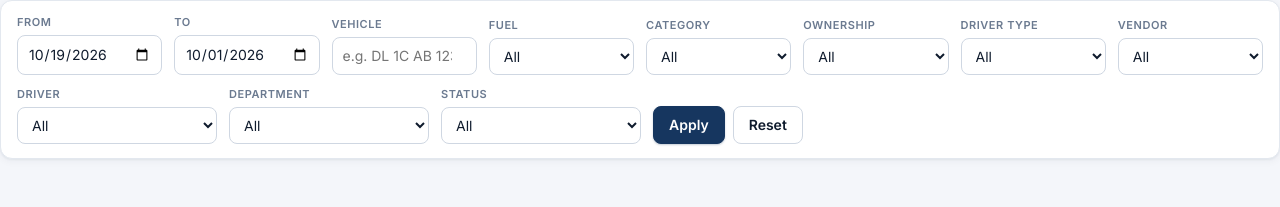
FilterBar › refuses an inverted date range with a visible message
Click the button "Apply": x=689, y=125 [653,106,725,144]
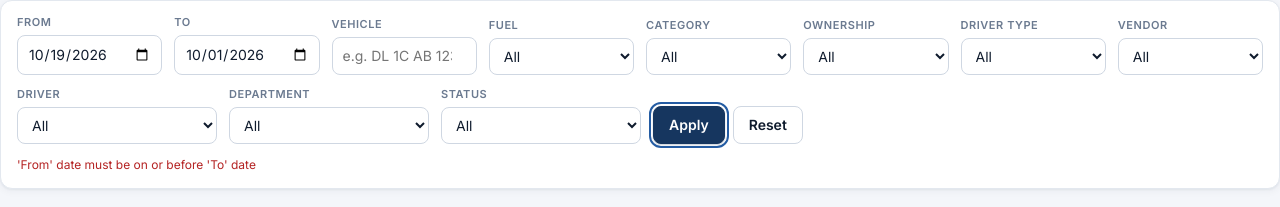
Now the message reads "'From' date must be on or before 'To' date", box [17,157,256,172]
